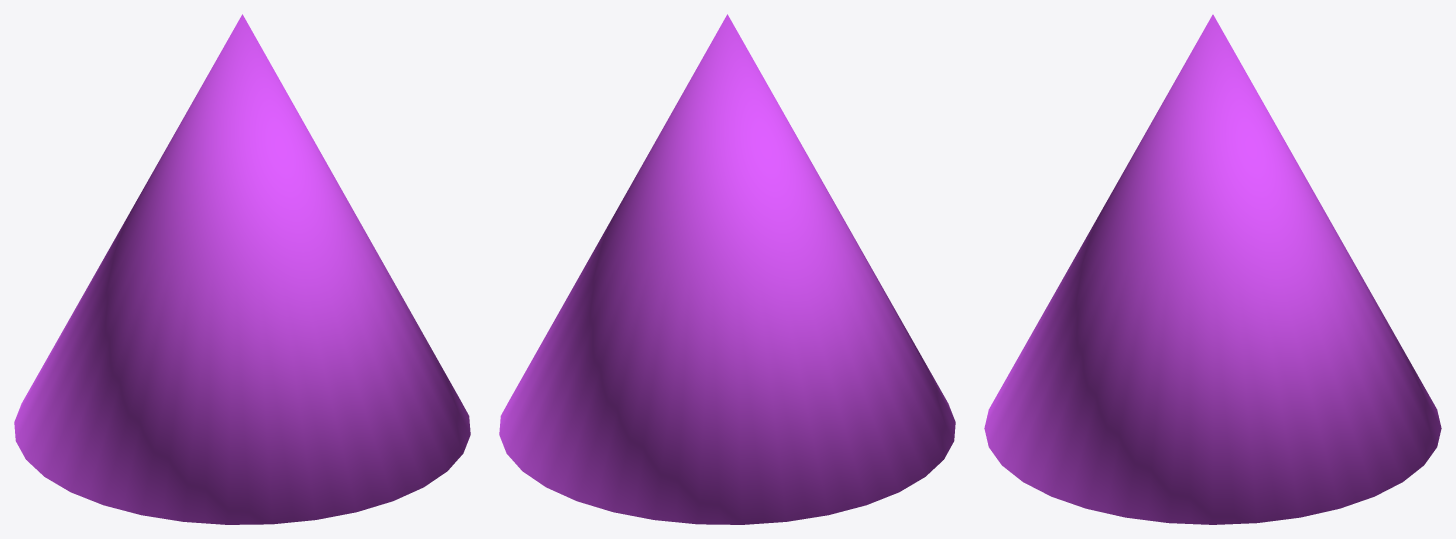
3 views of the same model, side by side, from view 1: azimuth 30°, elevation 25°; view 2: azimuth 150°, elevation 25°; view 3: azimuth 270°, elevation 25° (orthographic).
Parts seen in each view (by area): view 1: Cone; view 2: Cone; view 3: Cone.
Boxes of the visible parts, x1,y1,x2,y2 form: Cone: [14, 14, 470, 524]; Cone: [499, 14, 955, 524]; Cone: [984, 14, 1441, 524].
Bounding box in the file's own units: 2 × 2 × 2.
